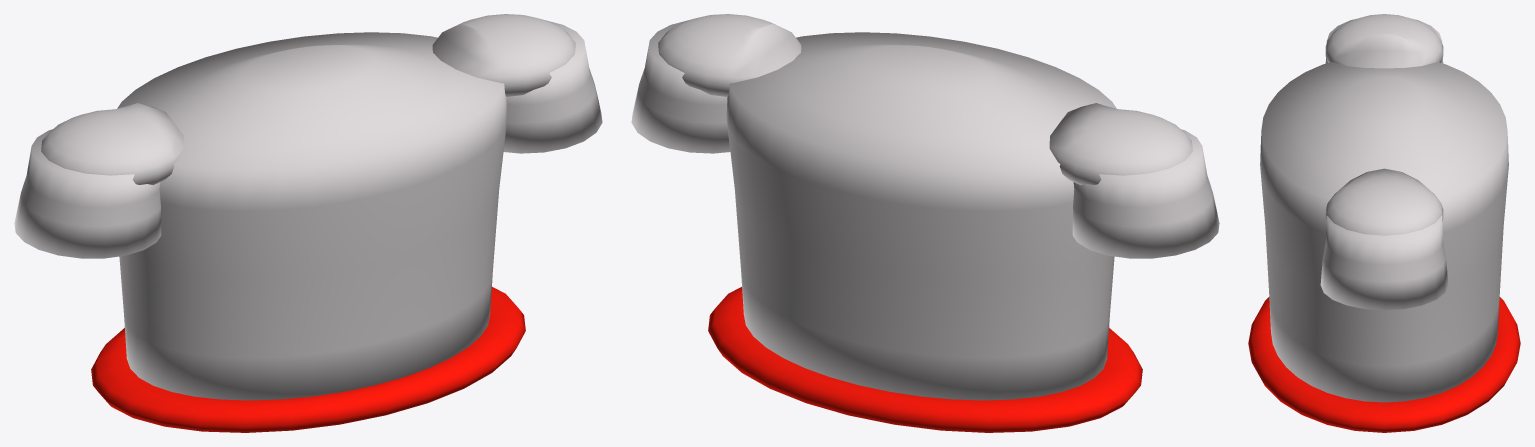
The model's file is top_cute_0.glb.
3 renders of one model, left to right at view 1: azimuth 30°, elevation 25°; view 2: azimuth 150°, elevation 25°; view 3: azimuth 270°, elevation 25°, orthographic. The views are drawn at different scales.
Bounding box in the file's own units: 0.653 × 0.3256 × 0.3168.
